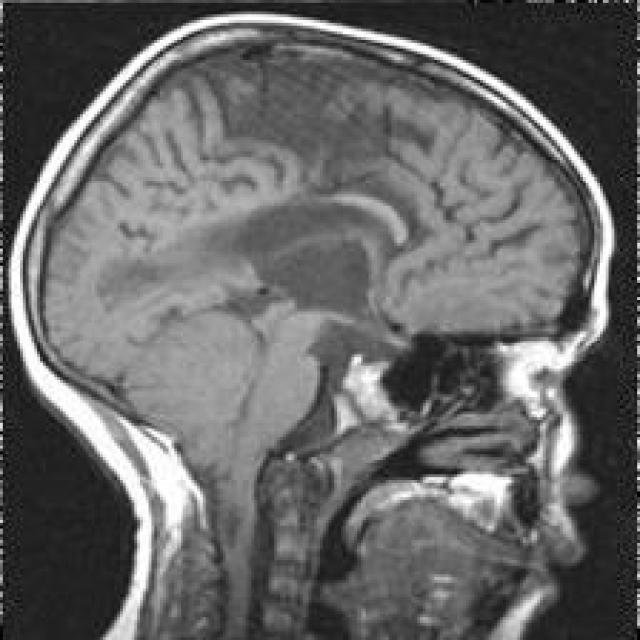no_tumor: (4, 16, 640, 516)
